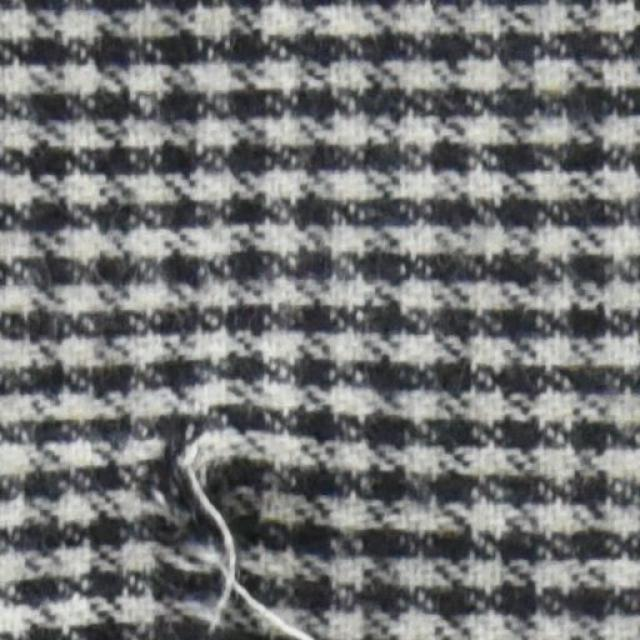Snag: (122, 412, 313, 639)
